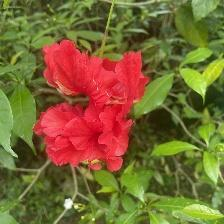hibiscus: (36, 37, 152, 179)
